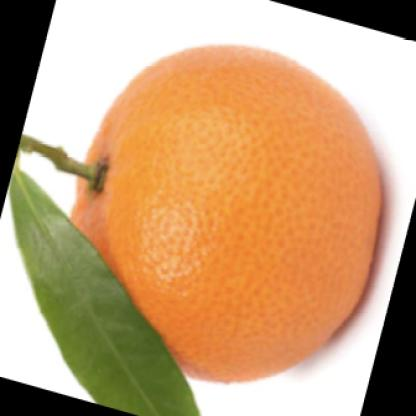fresh: (58, 43, 384, 386)
